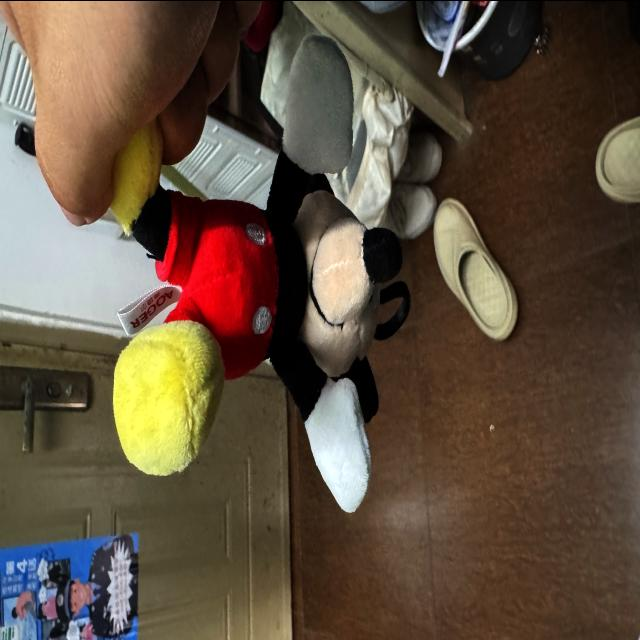mickey: (114, 36, 409, 510)
